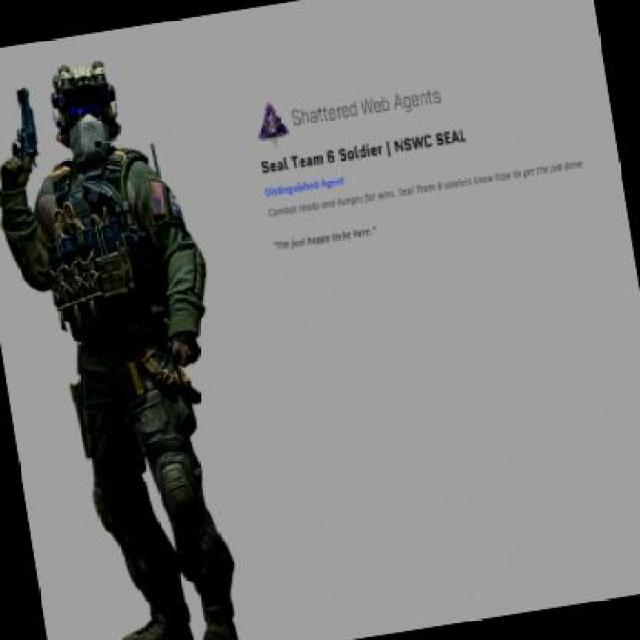MIL_Pax: (0, 44, 269, 638)
